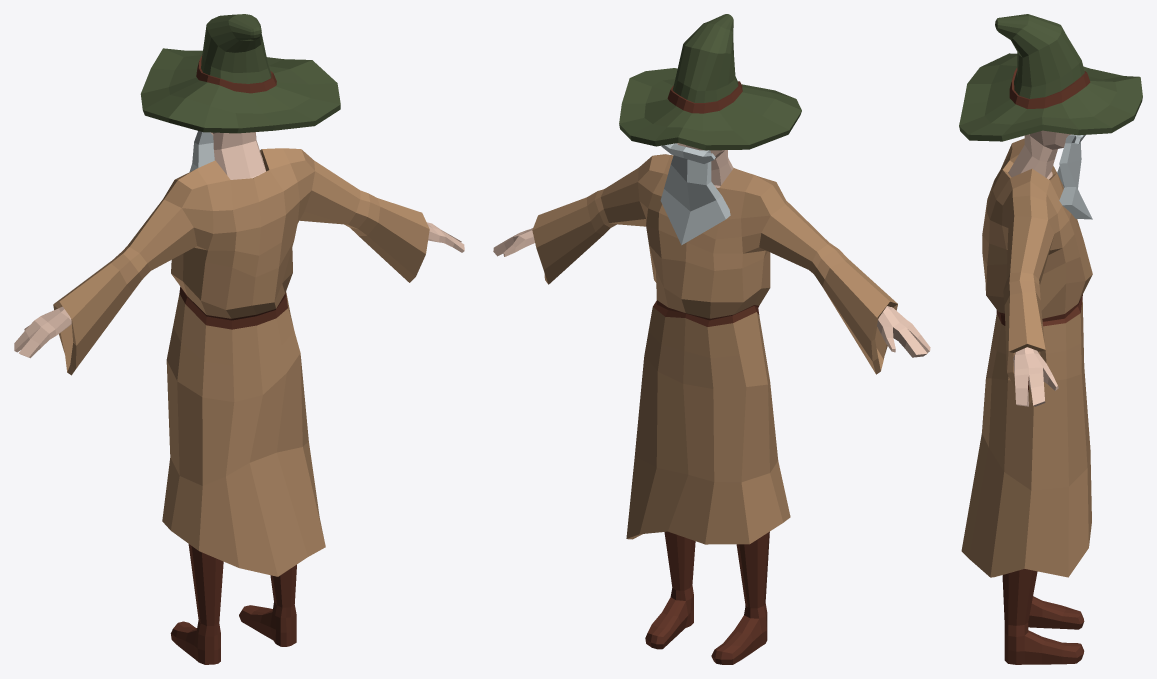
Rendered from Peasant_Wizard.fbx.
3 renders of one model, left to right at view 1: azimuth 30°, elevation 25°; view 2: azimuth 150°, elevation 25°; view 3: azimuth 270°, elevation 25°, orthographic. The views are drawn at different scales.
Visible parts, largest first — view 1: wizard; view 2: wizard; view 3: wizard.
Part boxes in pixels (left/top/right/bottom): wizard: left=14, top=14, right=464, bottom=664; wizard: left=493, top=14, right=930, bottom=664; wizard: left=959, top=14, right=1142, bottom=664.
Size of the model in its own units: 0.8065 by 0.2905 by 1.09.
